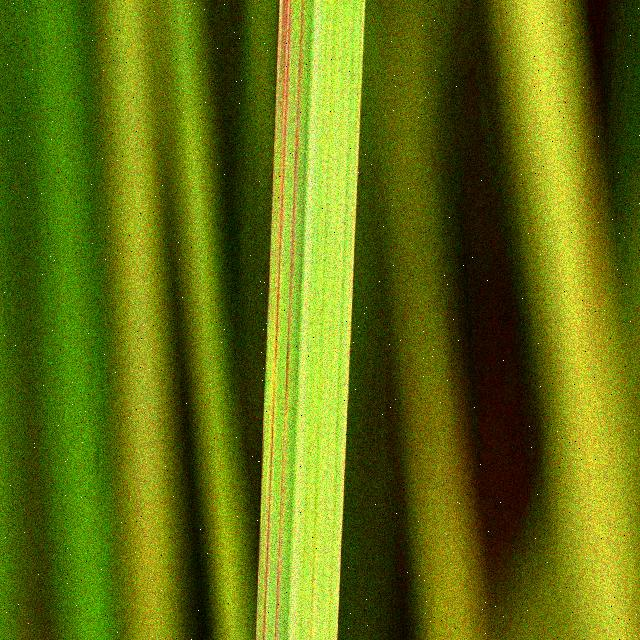BLS: (274, 0, 304, 640), (263, 0, 291, 640), (310, 487, 317, 640), (256, 614, 257, 640)
